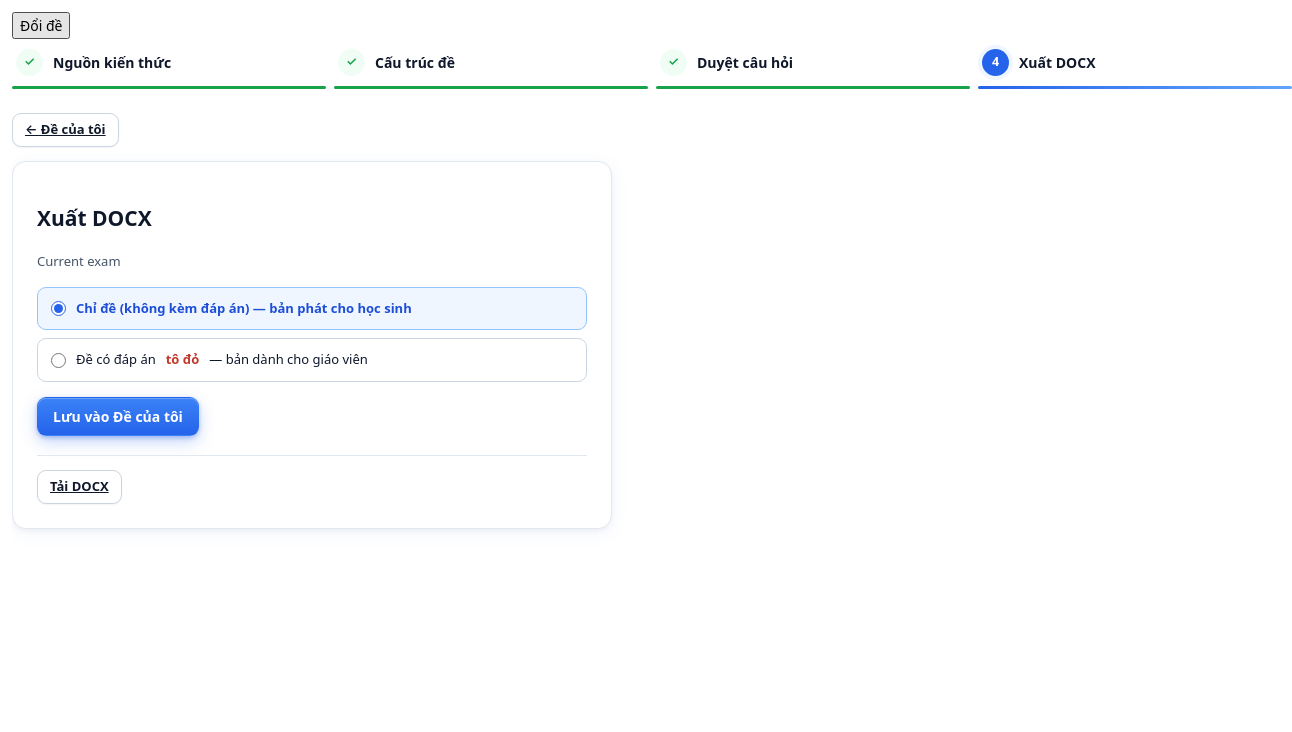
Scenario: ExamExportPage route isolation › keeps the current form and shows a reload error after save
The image size is (1292, 732).
Click the button "Lưu vào Đề của tôi".
click(118, 416)  # box [37,397,199,436]
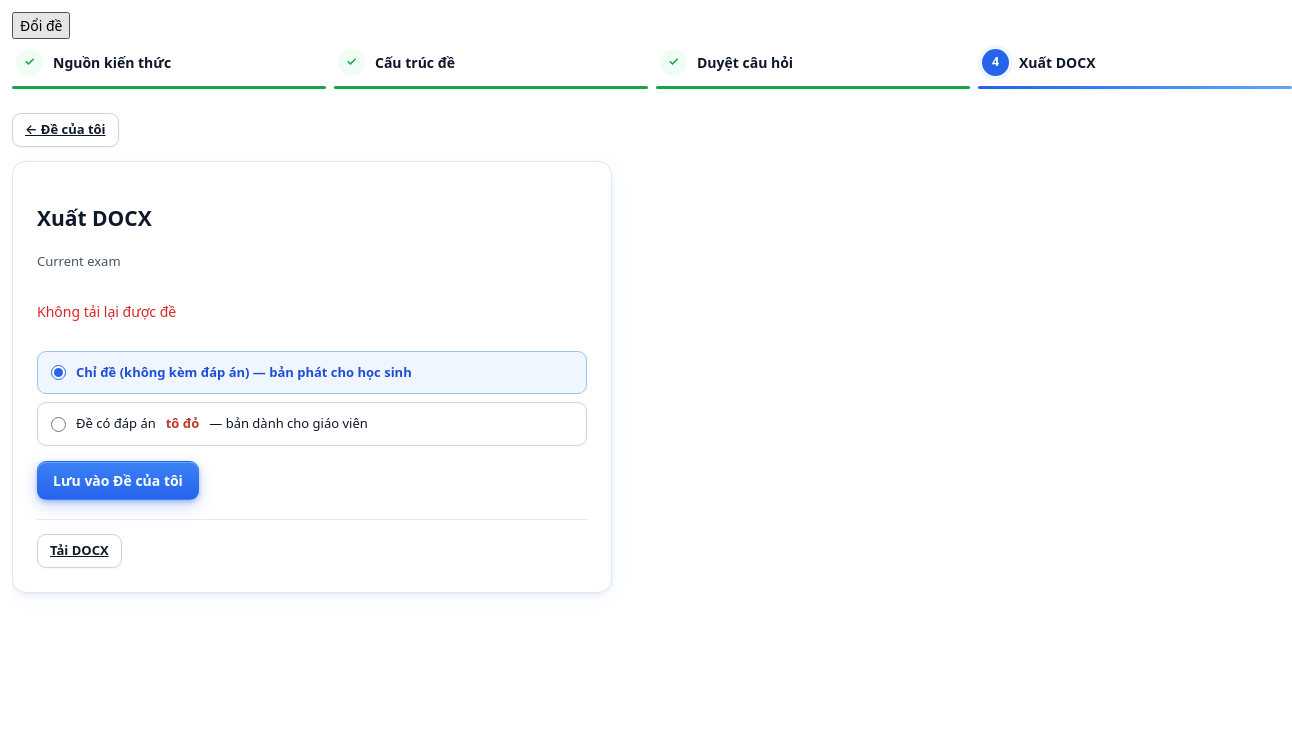
expect the text "Current exam" is shown: met, box [37,252,121,270]
expect the text "Không tải lại được đề" is shown: met, box [37,302,176,321]
